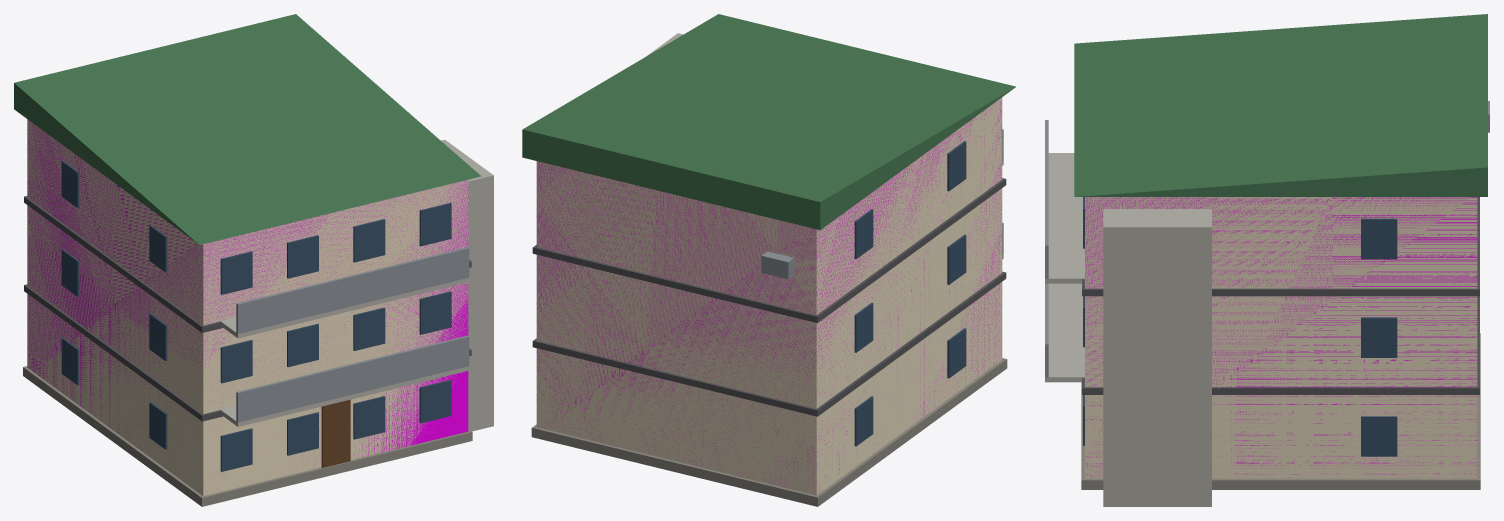
Rendered from Apartment_3S_03.glb.
3 renders of one model, left to right at view 1: azimuth 30°, elevation 25°; view 2: azimuth 150°, elevation 25°; view 3: azimuth 270°, elevation 25°, orthographic. The views are drawn at different scales.
Parts seen in each view (by area): view 1: Apartment_3S_03, Apartment_3S_03_COL; view 2: Apartment_3S_03, Apartment_3S_03_COL; view 3: Apartment_3S_03, Apartment_3S_03_COL.
Part boxes in pixels (x1=…): Apartment_3S_03: x1=14, y1=14, x2=493, y2=506; Apartment_3S_03_COL: x1=27, y1=121, x2=468, y2=473; Apartment_3S_03: x1=522, y1=14, x2=1015, y2=506; Apartment_3S_03_COL: x1=536, y1=101, x2=1002, y2=493; Apartment_3S_03: x1=1045, y1=14, x2=1489, y2=506; Apartment_3S_03_COL: x1=1085, y1=197, x2=1477, y2=477.
Bounding box in the file's own units: 10.9 × 9.9 × 12.25.
